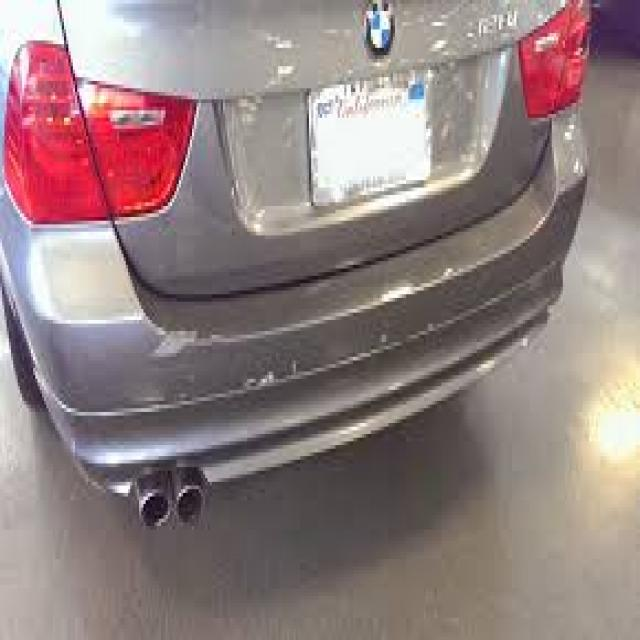minor: (140, 296, 305, 433)
